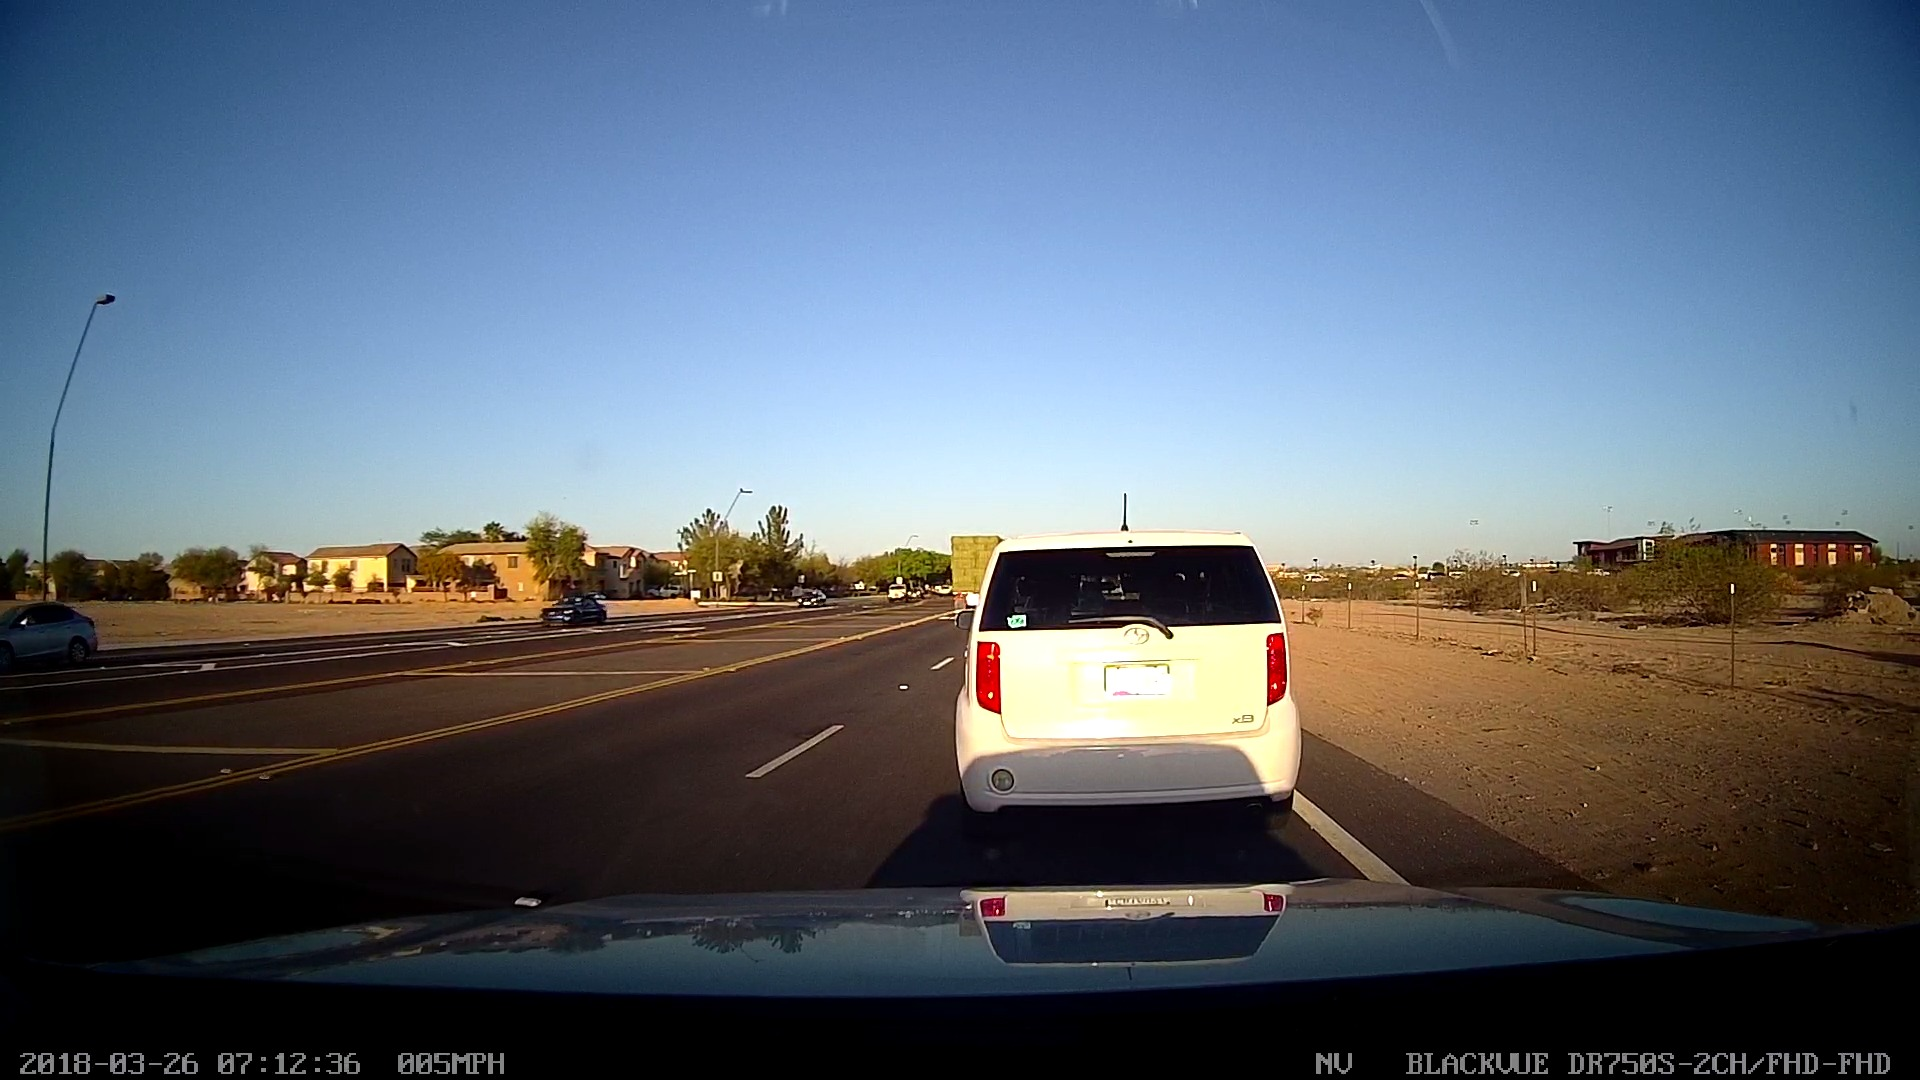plate: (1100, 658, 1170, 698)
vehicle: (952, 526, 1303, 840), (0, 600, 99, 684), (541, 583, 608, 630), (791, 584, 822, 613)
